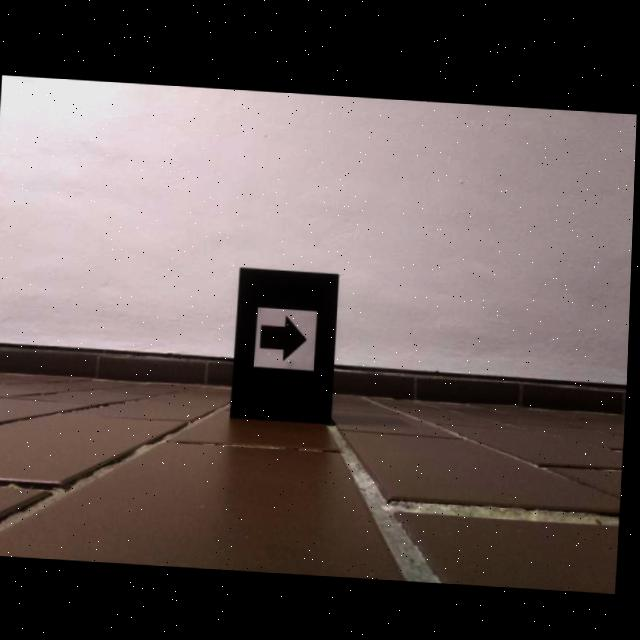RIGHT: (262, 311, 310, 360)
